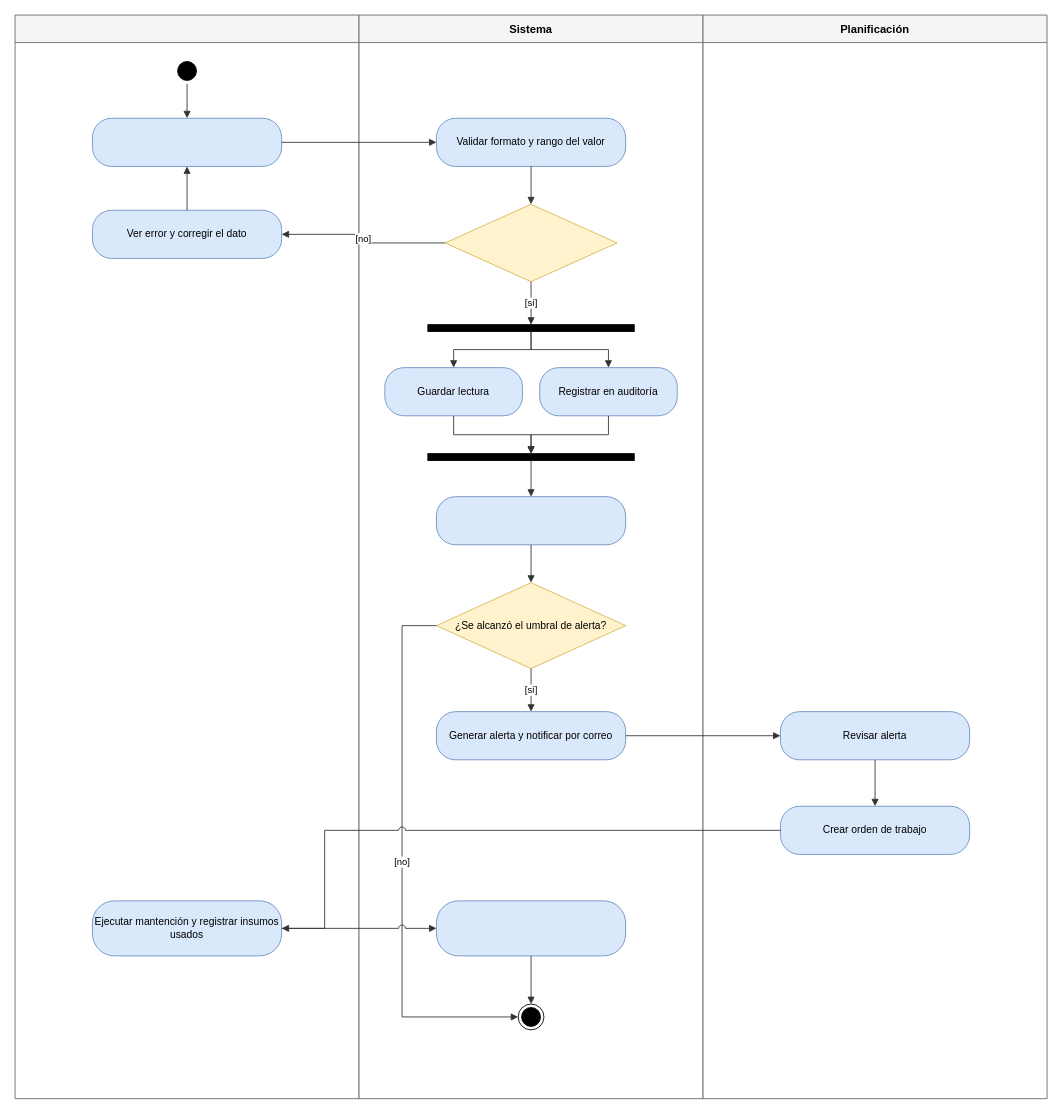
Some shapes in this 1062 by 1114 pixel diagram are drawn without their labels. The shapes that lost their labels are listed below. From the top down, each one's box as (x1, y1, x2, y2) in pixels, then its label:
(92, 117, 282, 166): Ingresar horómetro del equipo
(444, 203, 617, 282): ¿Dato válido?
(436, 496, 626, 545): Calcular próximo servicio
(14, 14, 359, 1099): Técnico de Mantenimiento
(436, 900, 626, 956): Actualizar historial, stock y horómetro
